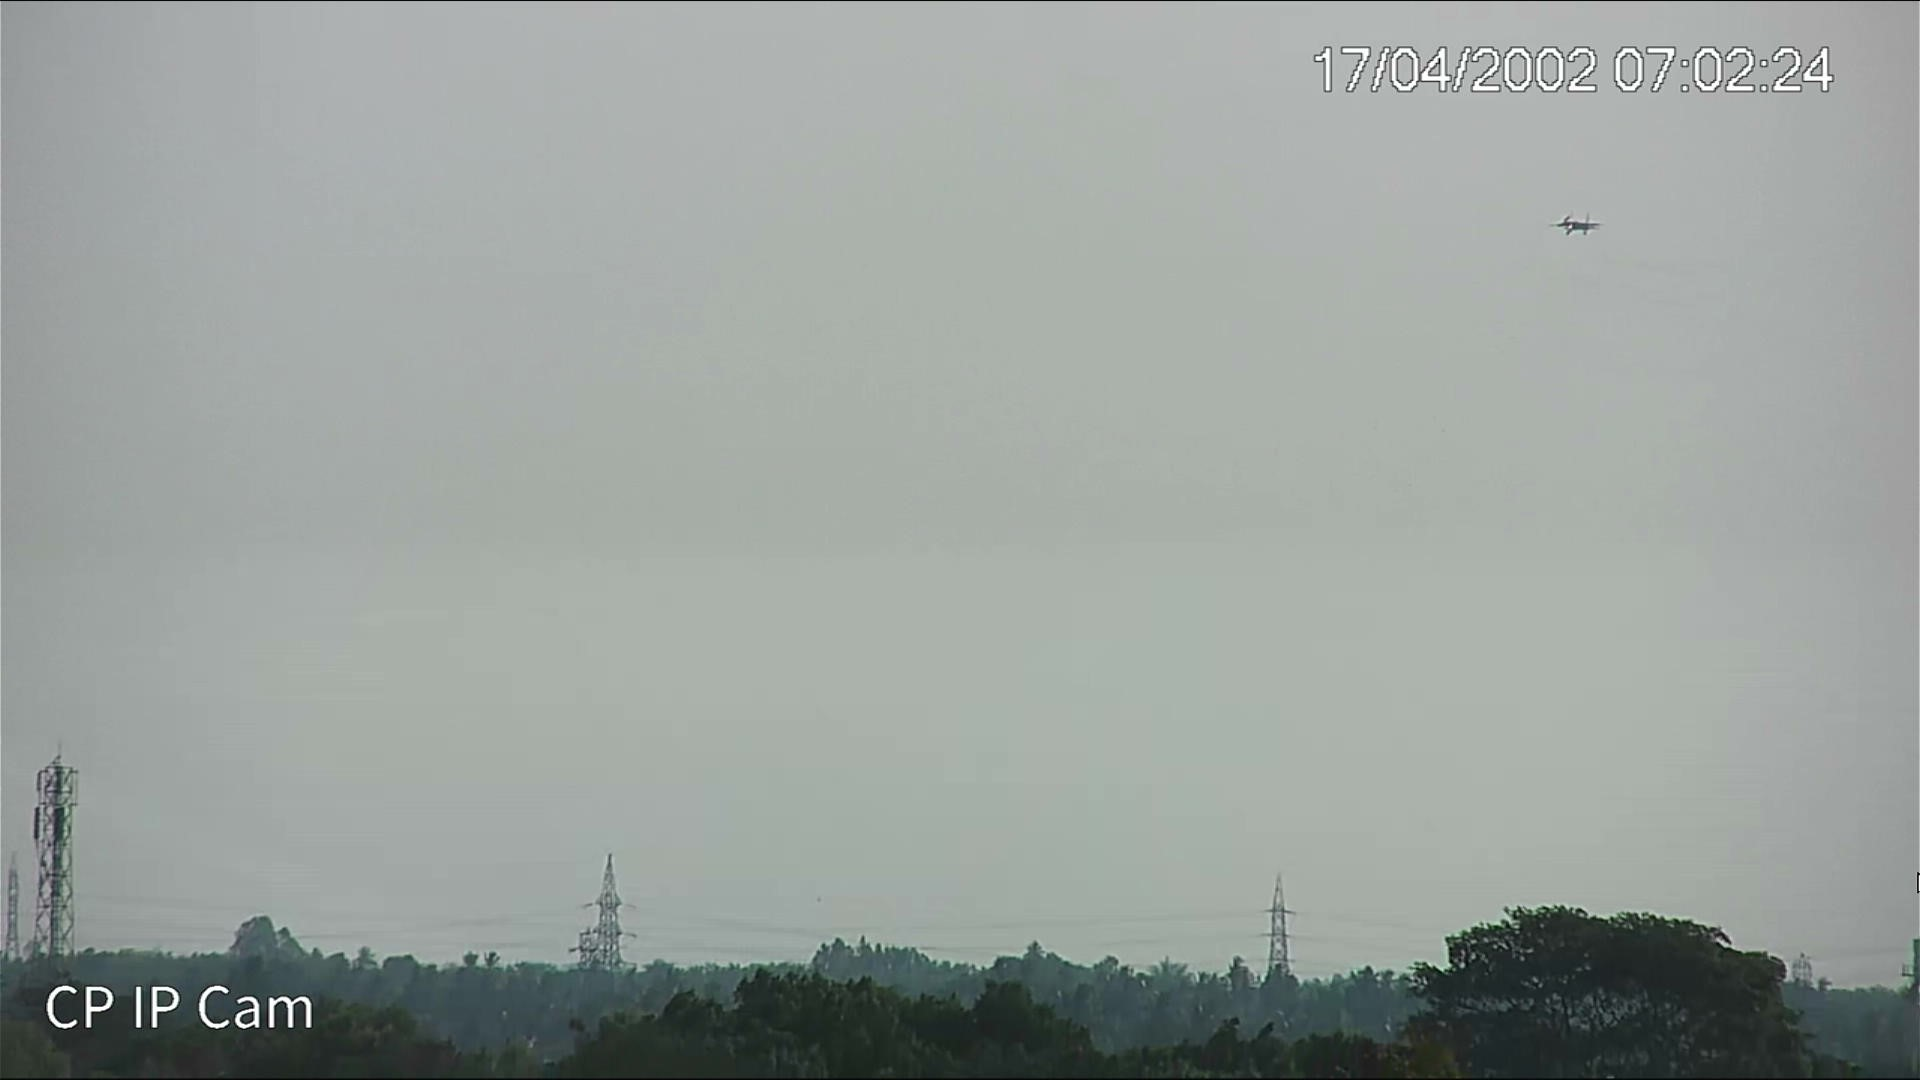SU_30: (1552, 211, 1600, 237)
